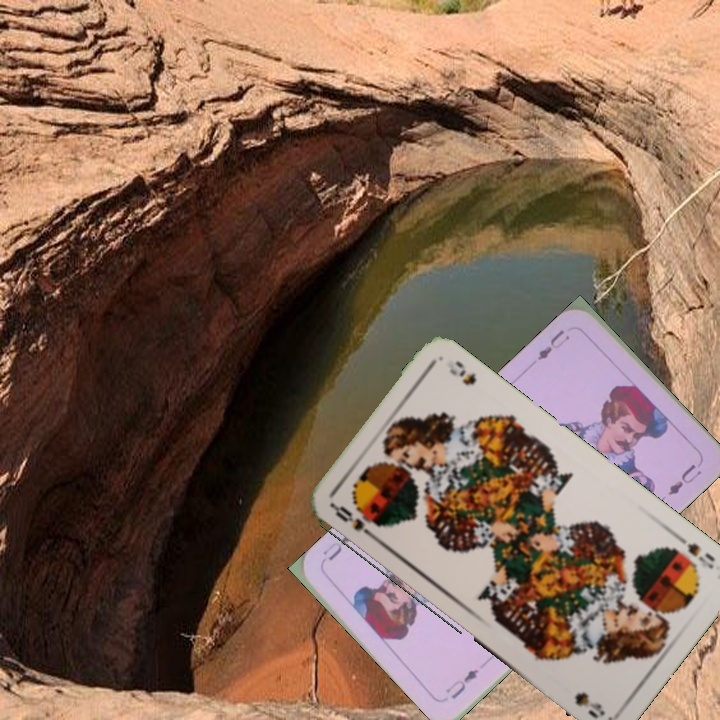EU: (532, 325, 573, 364), (441, 665, 482, 702)
SO: (328, 501, 379, 543), (671, 530, 718, 572)
